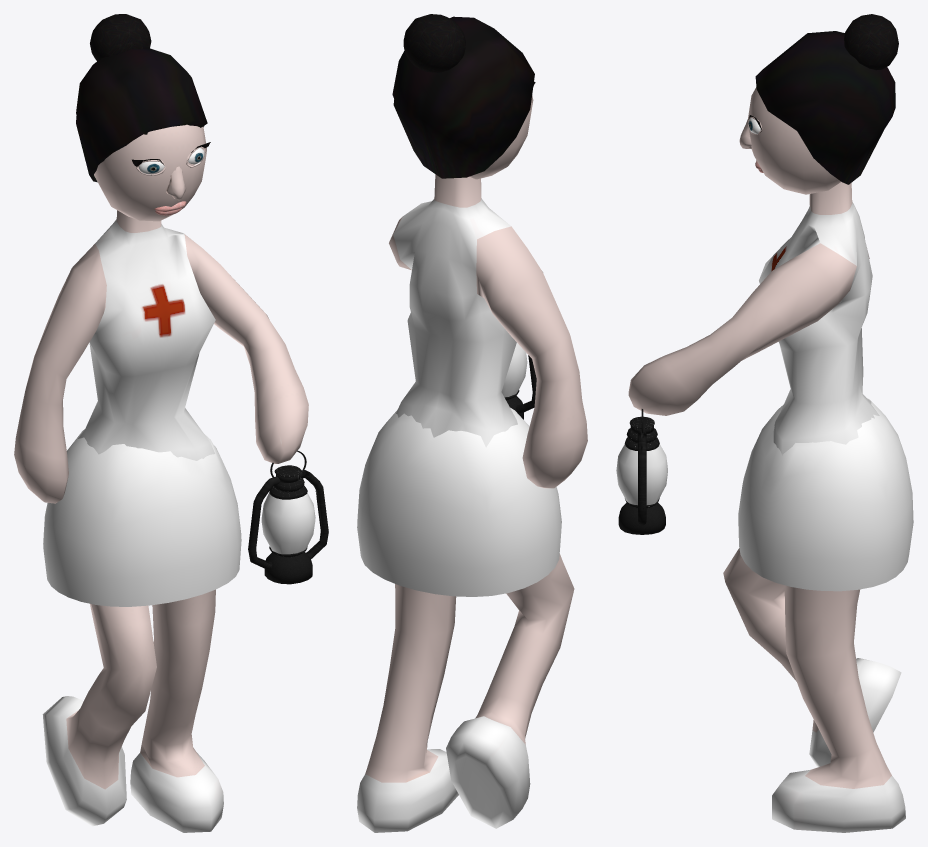
File: walking_000008.obj
3 views of the same model, side by side, from view 1: azimuth 30°, elevation 25°; view 2: azimuth 150°, elevation 25°; view 3: azimuth 270°, elevation 25° (orthographic). The views are drawn at different scales.
Visible parts, largest first — view 1: Cube_Cube.001, Cube.001_Cube, Cube.004; view 2: Cube_Cube.001, Cube.001_Cube, Cube.004; view 3: Cube_Cube.001, Cube.001_Cube, Cube.004.
Part boxes in pixels (bbox=[...]): Cube_Cube.001: bbox=[14, 14, 308, 832]; Cube.001_Cube: bbox=[43, 429, 241, 606]; Cube.004: bbox=[248, 450, 328, 584]; Cube_Cube.001: bbox=[357, 14, 587, 832]; Cube.001_Cube: bbox=[357, 407, 561, 596]; Cube.004: bbox=[501, 343, 536, 419]; Cube_Cube.001: bbox=[628, 14, 905, 832]; Cube.001_Cube: bbox=[738, 398, 913, 591]; Cube.004: bbox=[616, 409, 667, 534].
Size of the model in its own units: 0.5879 by 2.07 by 0.7132.
